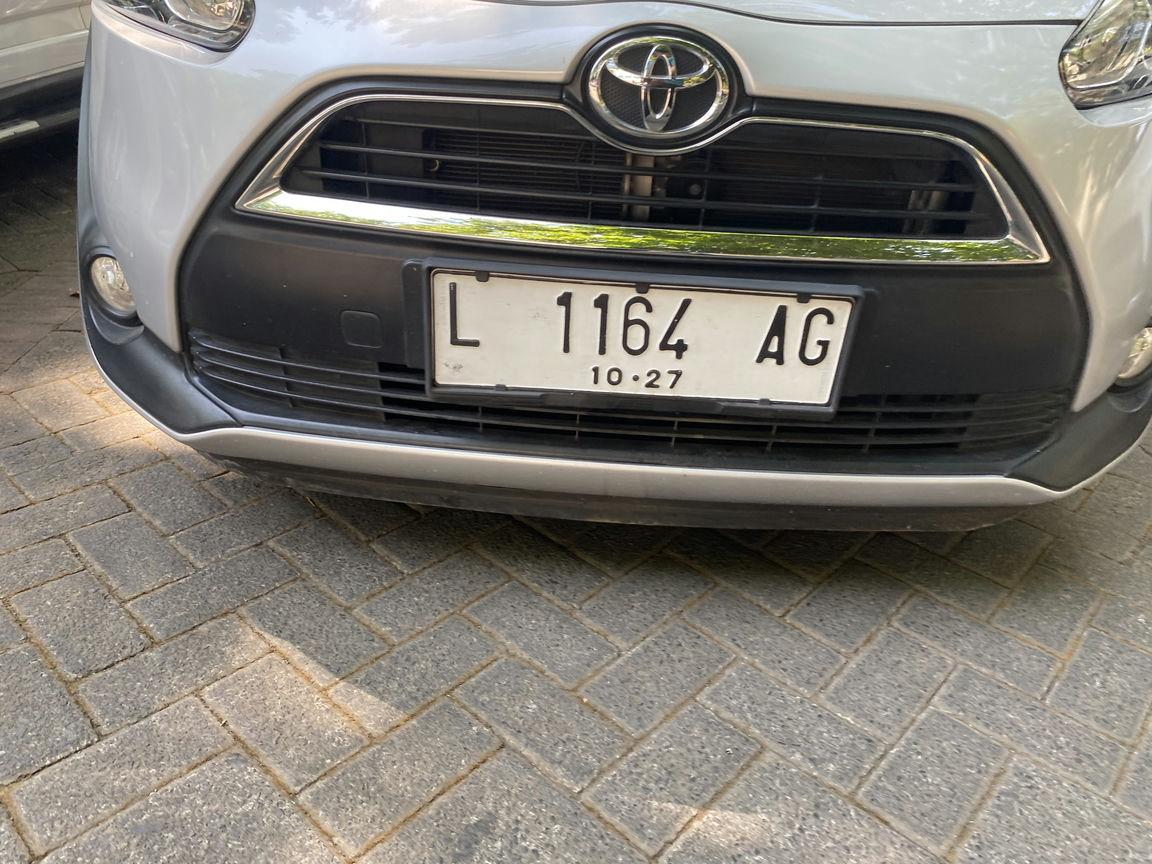plat: (432, 270, 853, 410)
